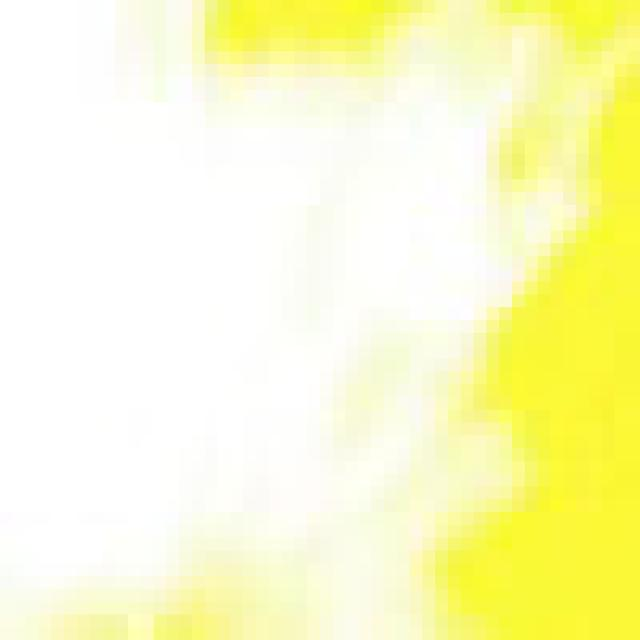fire: (6, 13, 640, 617)
